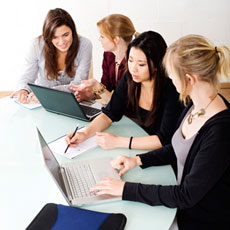Person: (89, 33, 230, 230), (64, 29, 187, 151), (9, 7, 93, 105)
